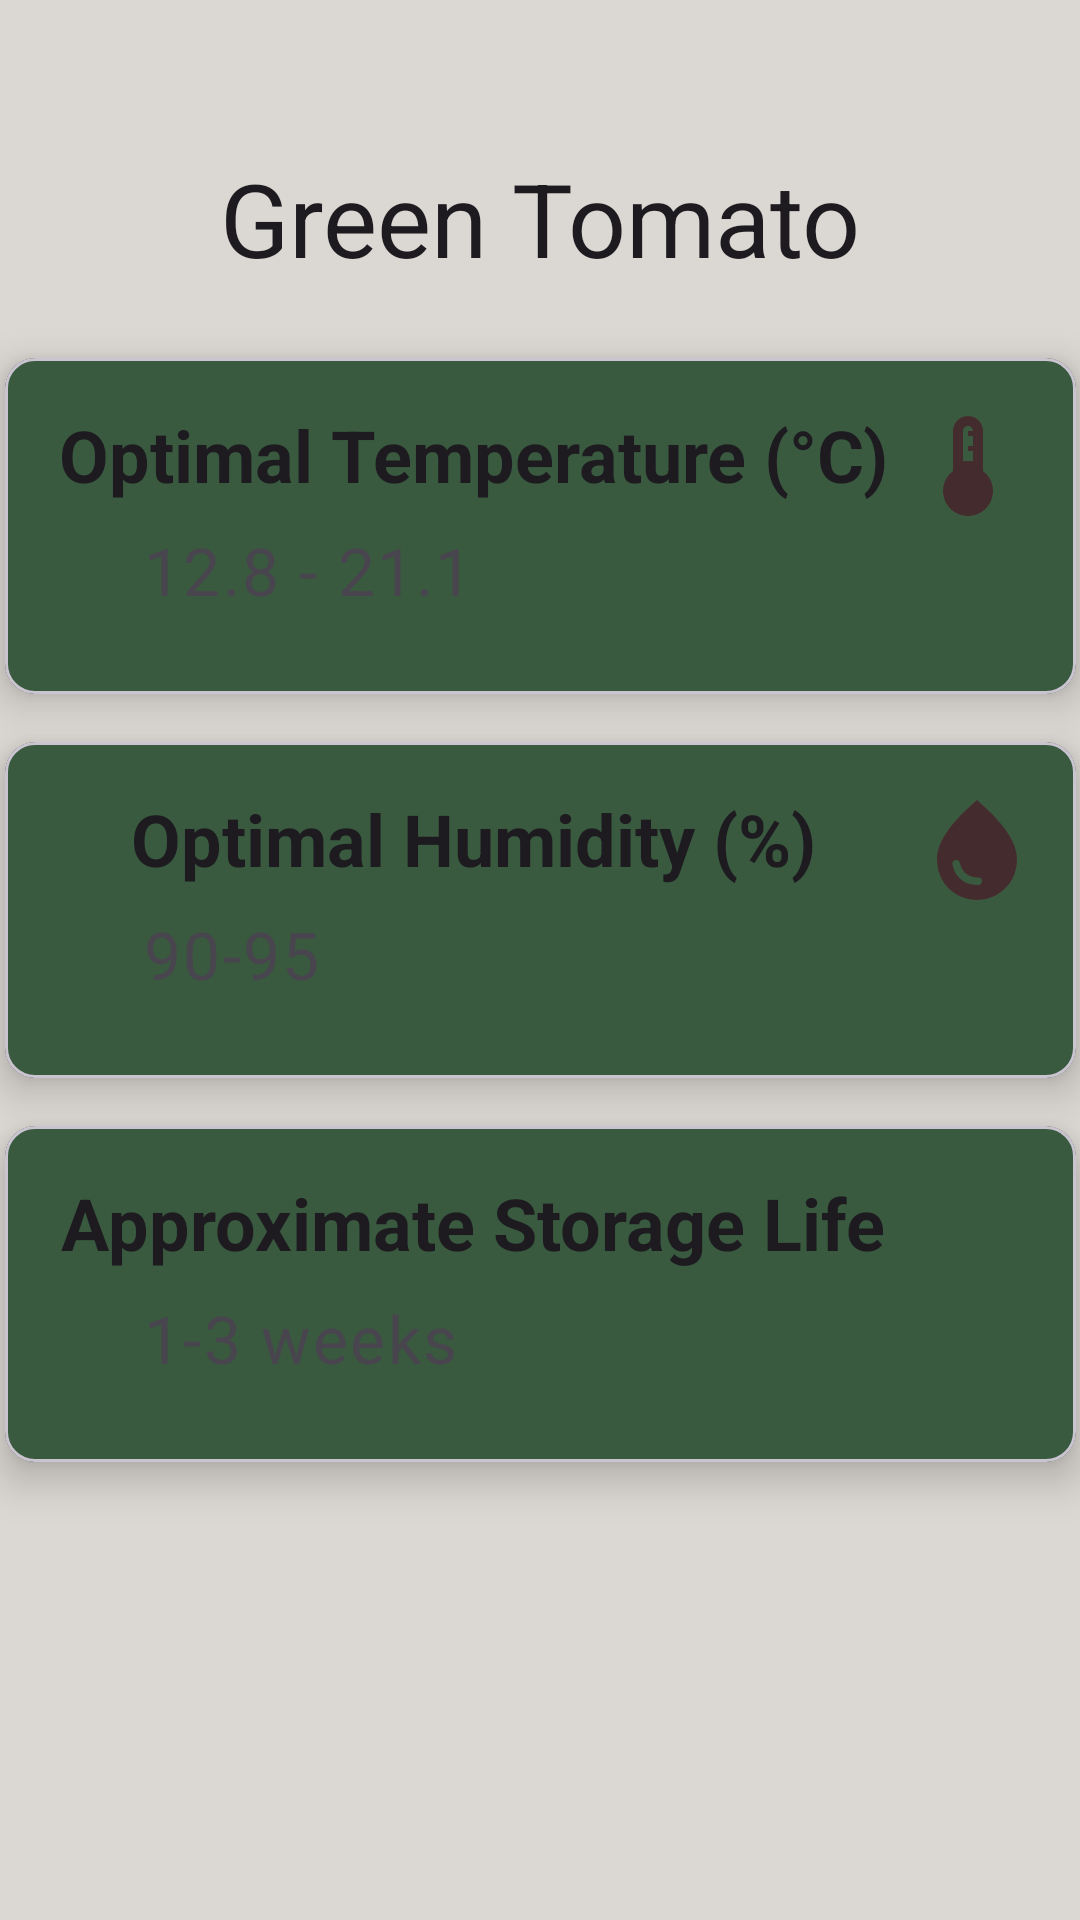

Where icons sit on this 1080x1920 app screen, as (x1, y1, x2, y2):
device thermostat: (943, 416, 993, 516)
water drop: (937, 800, 1017, 900)
